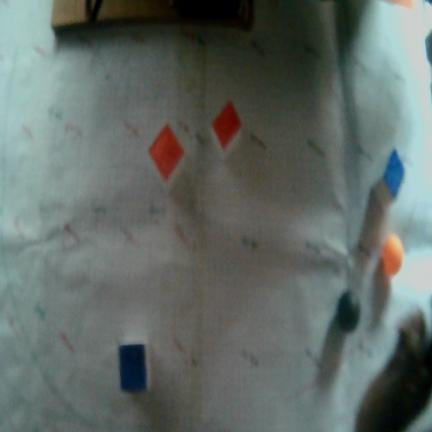circle_blue: (336, 292, 360, 333)
circle_orange: (381, 235, 404, 278)
rectangle_blue: (382, 146, 406, 201)
rectangle_orange: (212, 103, 241, 150)
square_blue: (119, 344, 146, 392)
square_orange: (149, 125, 183, 181)
